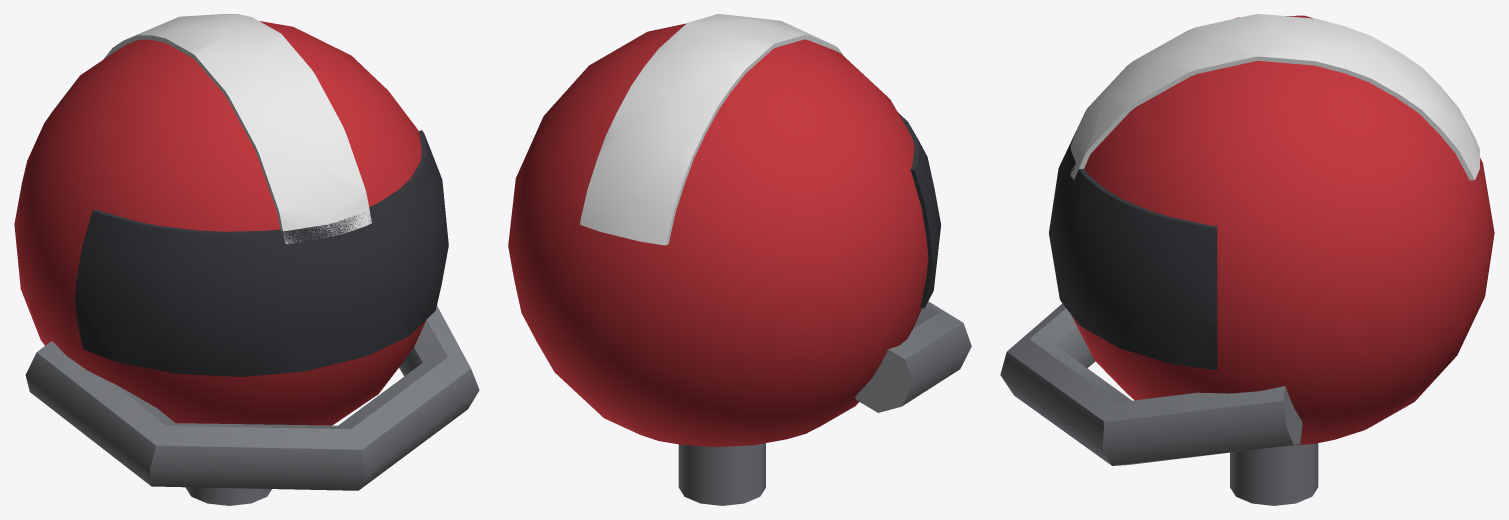
Rendered from bob_helmet.fbx.
The picture shows the model from 3 angles, left to right: view 1: azimuth 30°, elevation 25°; view 2: azimuth 150°, elevation 25°; view 3: azimuth 270°, elevation 25°; orthographic projection.
Parts seen in each view (by area): view 1: red_1, carbon_1, gun_1, white_1; view 2: red_1, white_1, gun_1, carbon_1; view 3: red_1, gun_1, carbon_1, white_1.
Part boxes in pixels (x1,y1,x2,y2): red_1: (14,21,426,425); carbon_1: (75,130,448,376); gun_1: (25,306,479,505); white_1: (103,14,371,243); red_1: (508,23,928,447); white_1: (580,14,843,245); gun_1: (678,301,971,505); carbon_1: (898,112,940,308); red_1: (1071,15,1494,445); gun_1: (1000,303,1318,505); carbon_1: (1049,131,1217,370); white_1: (1070,14,1479,180).
Bounding box in the file's own units: 0.0134 × 0.0148 × 0.0145.
